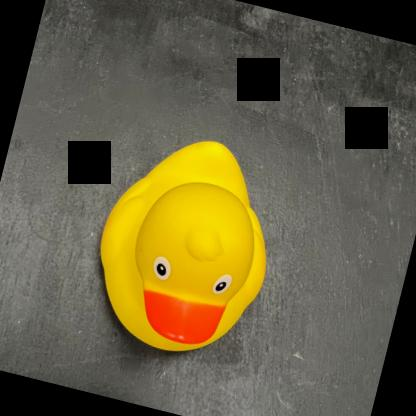duck: (74, 115, 298, 374)
